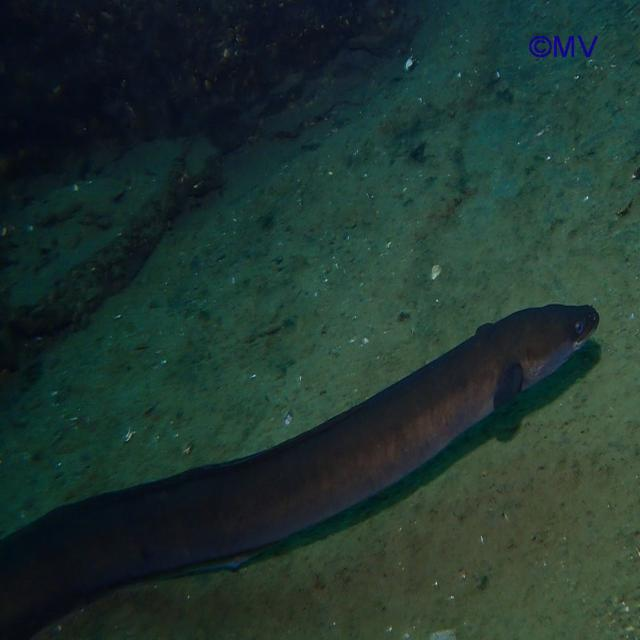Freshwater-Eel: (6, 272, 621, 596)
